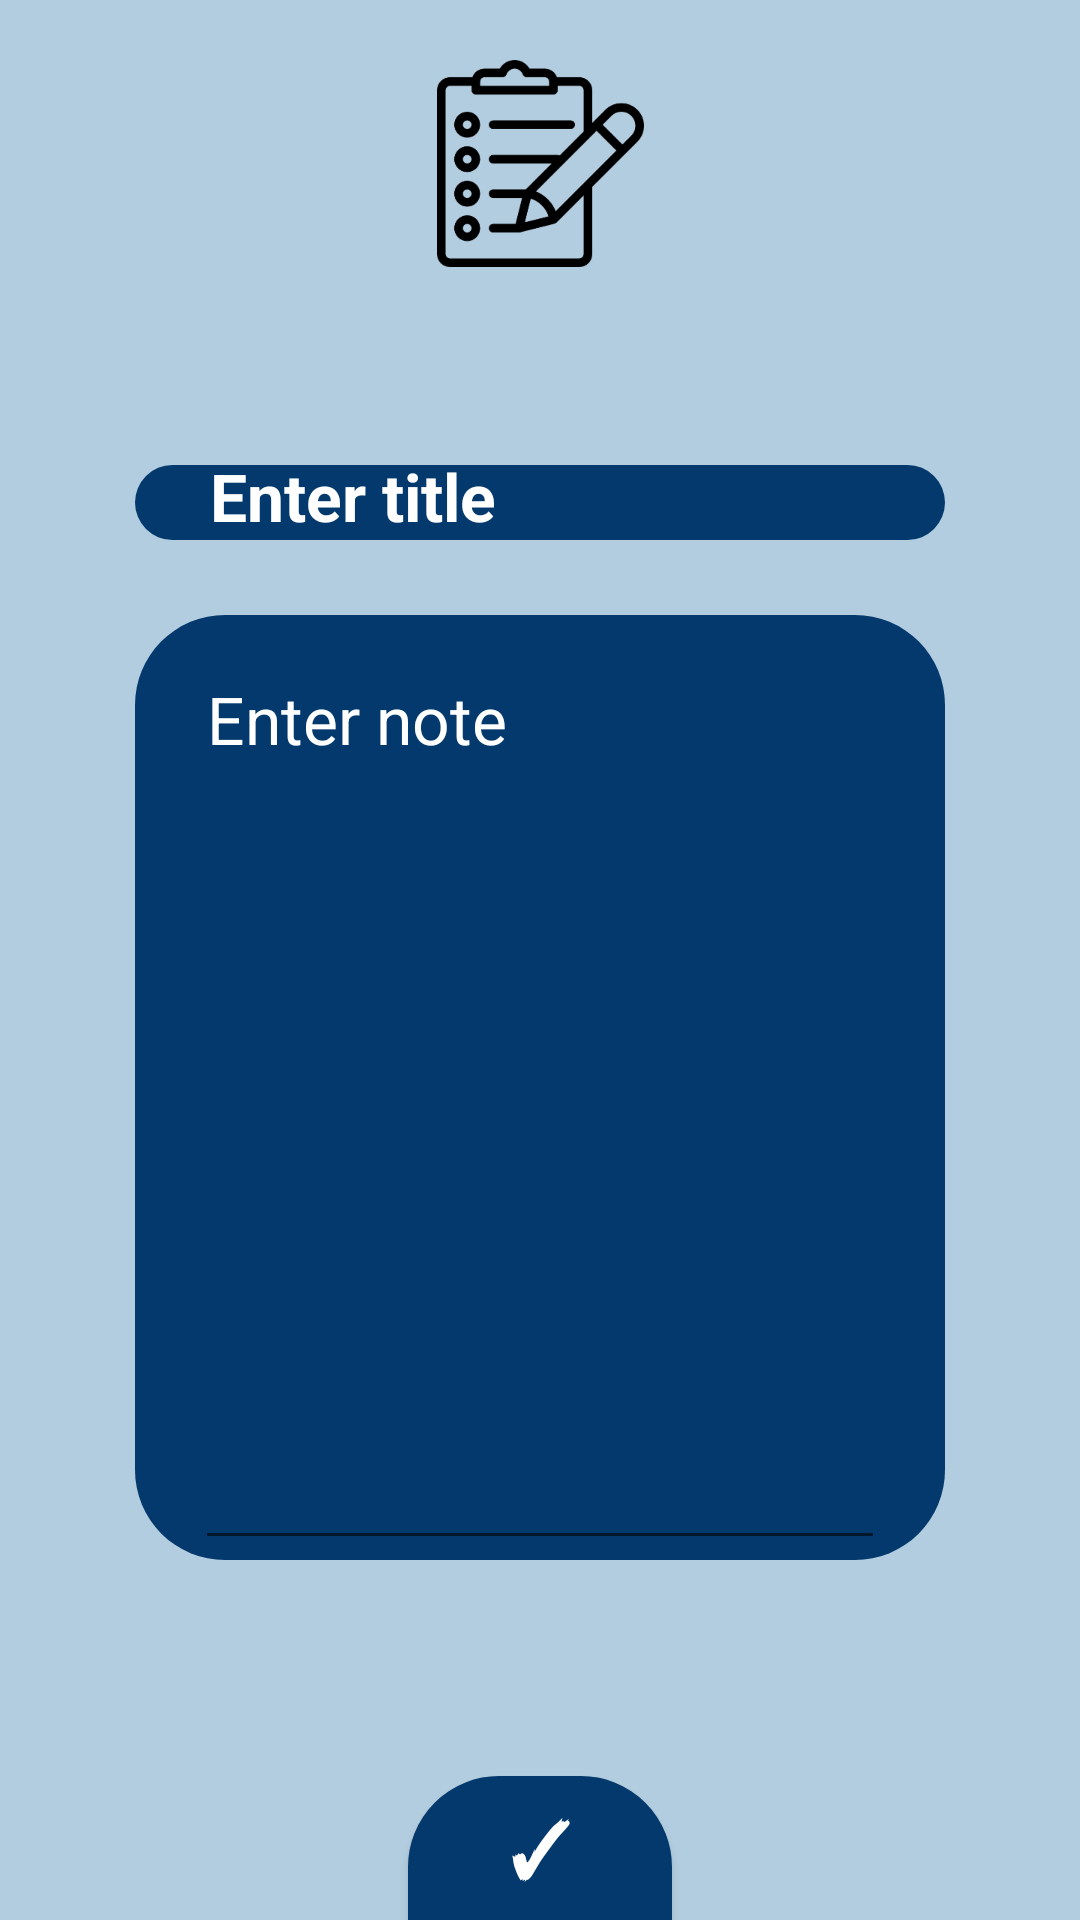

Locate icon controls on the screen. Image size 1080 × 1920, boxes as (x1, y1, x2, y2).
notes: (437, 60, 644, 267)
